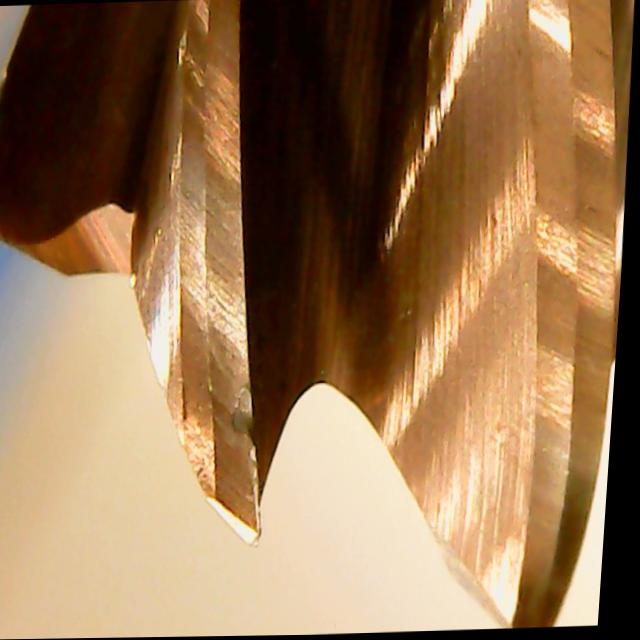Tool-wear-class-1: (134, 242, 308, 552)
